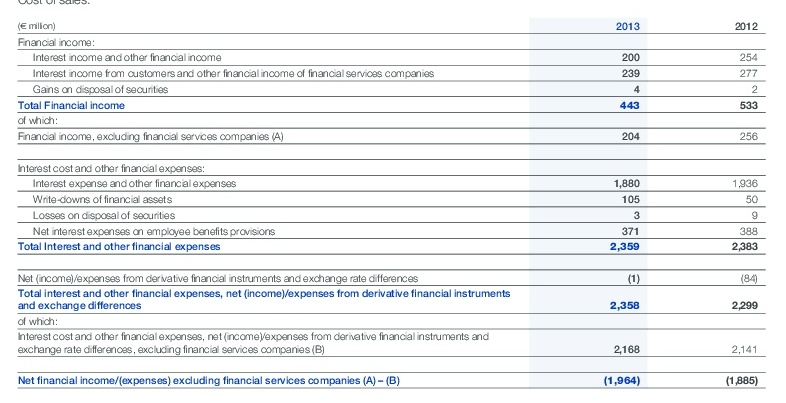table: (0, 0, 786, 403)
